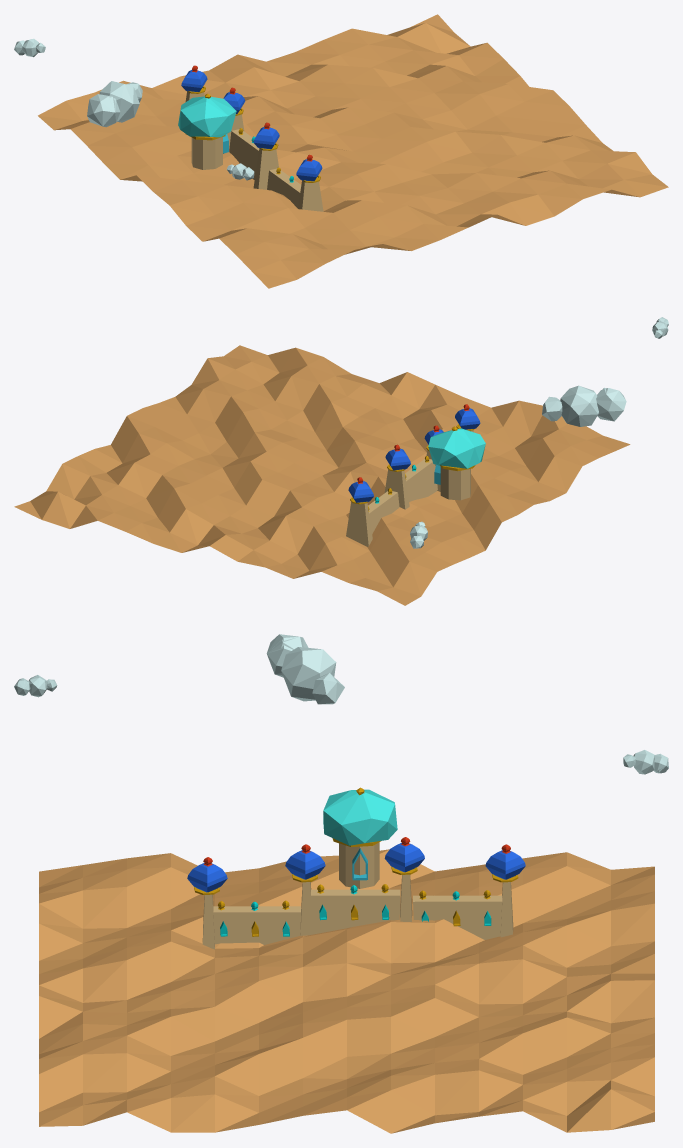
Rendered from DesertScene.fbx.
3 renders of one model, top to bottom at view 1: azimuth 30°, elevation 25°; view 2: azimuth 150°, elevation 25°; view 3: azimuth 270°, elevation 25°, orthographic. The views are drawn at different scales.
Parts seen in each view (by area): view 1: Desert, Top, Cloud, Join.001, Join.003, Pillar, WallLilTop1.002, Balcony1.001, Join.002, Join, Cloud.001; view 2: Desert, Cloud, Top, Join.002, Join, WallLilTop1.002, Pillar, Balcony1.002, Join.003; view 3: Desert, Cloud, WallLilTop1.002, Top, Balcony1.001, Balcony1.002, Join.002, Join.003, Join.001, Join, Pillar, Cloud.001.
Boxes of the visible parts, x1,y1,x2,y2 form: Desert: (38, 14, 668, 288); Top: (178, 96, 236, 137); Cloud: (87, 81, 142, 127); Join.001: (253, 122, 279, 189); Join.003: (296, 154, 323, 211); Pillar: (191, 137, 222, 169); WallLilTop1.002: (229, 128, 259, 179); Balcony1.001: (267, 167, 301, 208); Join.002: (181, 65, 207, 101); Join: (223, 87, 245, 153); Cloud.001: (14, 38, 45, 57); Desert: (14, 345, 630, 605); Cloud: (542, 385, 626, 426); Top: (428, 428, 485, 468); Join.002: (346, 477, 373, 546); Join: (384, 444, 410, 509); WallLilTop1.002: (405, 456, 437, 501); Pillar: (440, 467, 470, 500); Balcony1.002: (368, 488, 399, 533); Join.003: (455, 404, 480, 432); Desert: (39, 849, 654, 1133); Cloud: (266, 634, 344, 704); WallLilTop1.002: (311, 884, 400, 934); Top: (323, 789, 397, 845); Balcony1.001: (213, 900, 300, 944); Balcony1.002: (413, 890, 502, 939); Join.002: (485, 844, 525, 937); Join.003: (187, 857, 227, 949); Join.001: (285, 844, 325, 935); Join: (384, 837, 424, 921); Pillar: (339, 842, 379, 888); Cloud.001: (623, 750, 668, 774).
Bounding box in the file's own units: 1949 × 653 × 1702.
